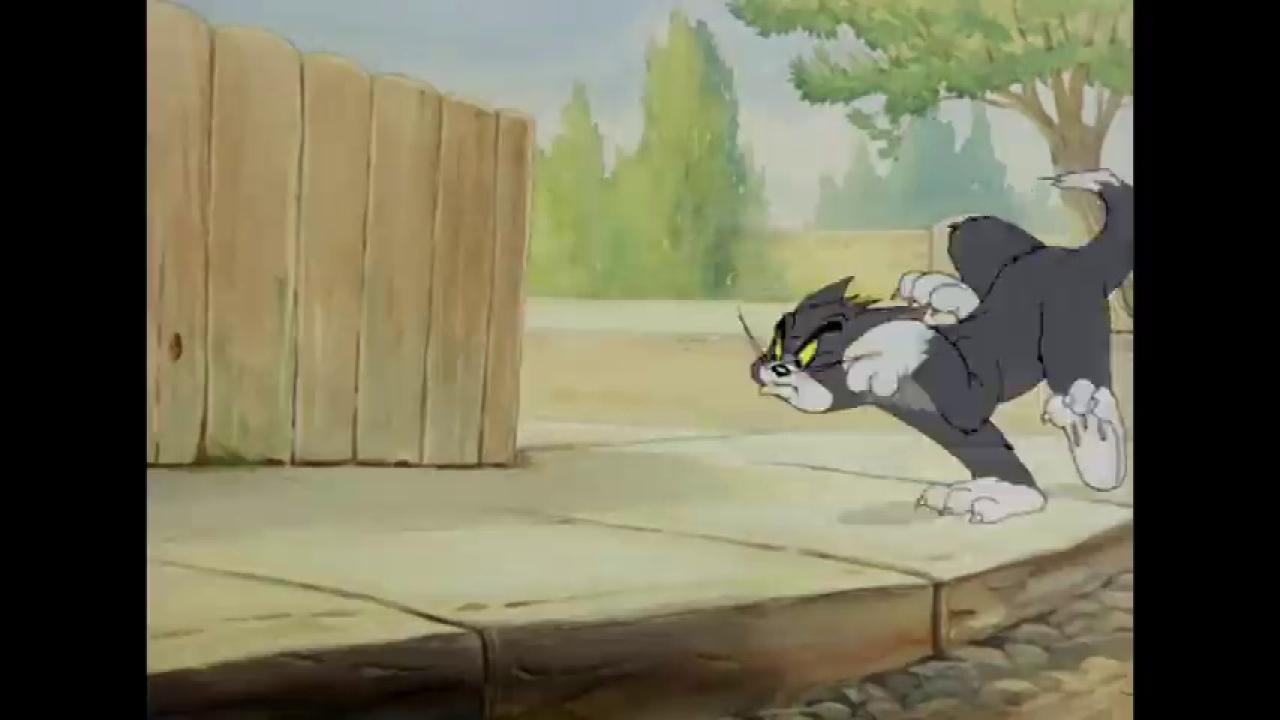Tom: (747, 166, 1133, 526)
